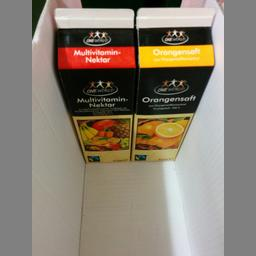juice: (51, 8, 136, 162), (130, 8, 215, 161)
